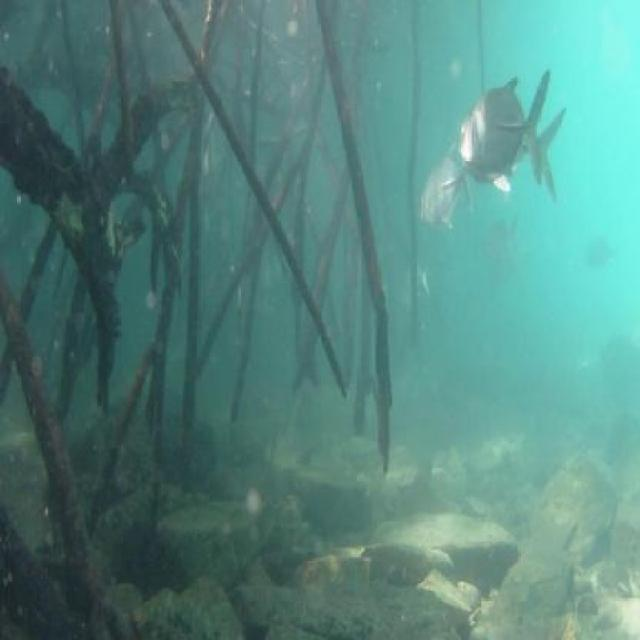Caranx_sexfasciatus_juvenile: (455, 64, 557, 196), (470, 93, 568, 216), (420, 140, 482, 243), (488, 211, 530, 260)
